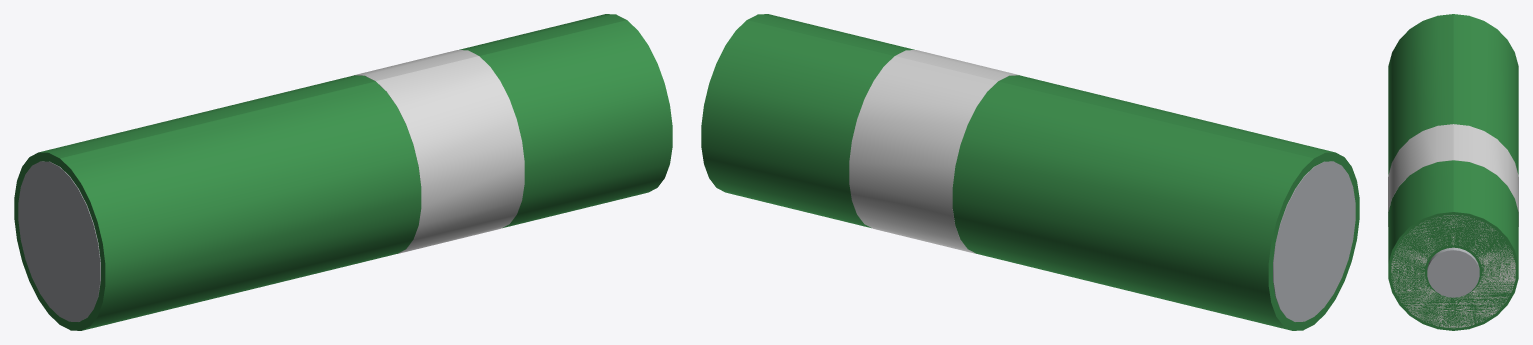
File: battery-18650.glb
The picture shows the model from 3 angles, left to right: view 1: azimuth 30°, elevation 25°; view 2: azimuth 150°, elevation 25°; view 3: azimuth 270°, elevation 25°; orthographic projection. The views are drawn at different scales.
Parts seen in each view (by area): view 1: body, band, negative_end; view 2: body, band, negative_end; view 3: body, insulator, band, positive_cap.
Part boxes in pixels (<box>): body: <box>14,14,672,330</box>; band: <box>354,50,524,253</box>; negative_end: <box>18,161,100,321</box>; body: <box>701,14,1359,330</box>; band: <box>849,50,1019,253</box>; negative_end: <box>1273,161,1355,321</box>; body: <box>1388,14,1518,330</box>; insulator: <box>1391,215,1515,328</box>; band: <box>1388,124,1518,226</box>; positive_cap: <box>1427,247,1479,297</box>.
Size of the model in its own units: 65.05 by 18.04 by 17.91.
